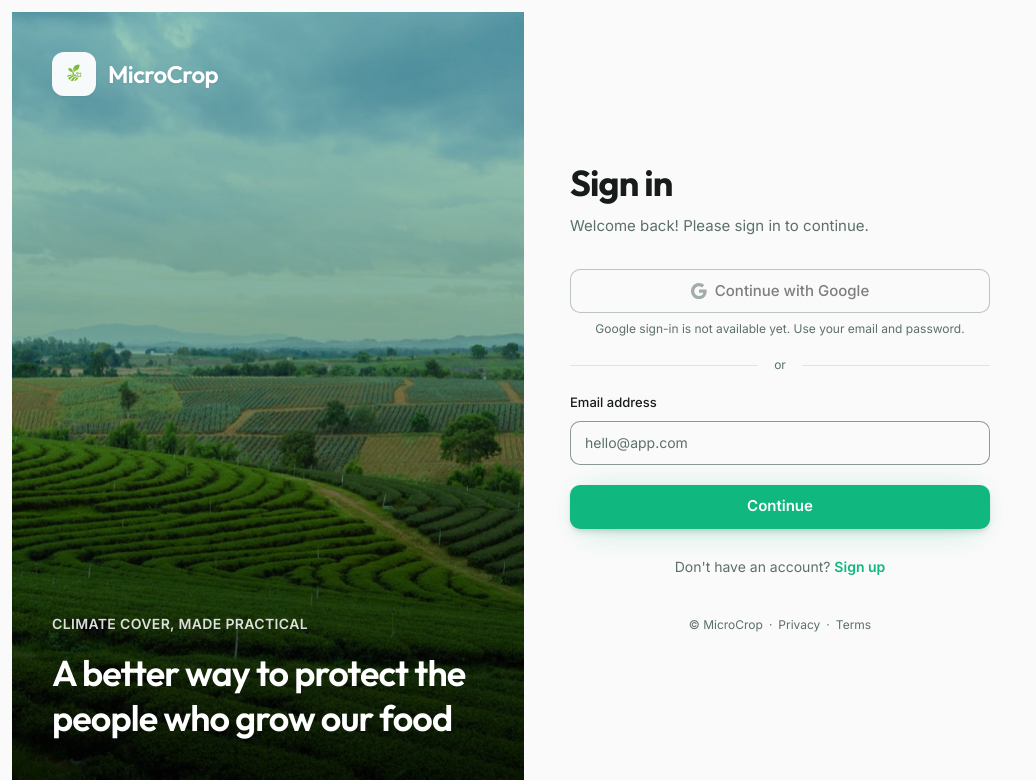
it: step one — email › advances on Enter in the field, not only on the button
Type "partner@acme.co" into the field labelled "Email address".
click(780, 442); type("partner@acme.co")  # box [570,420,990,464]
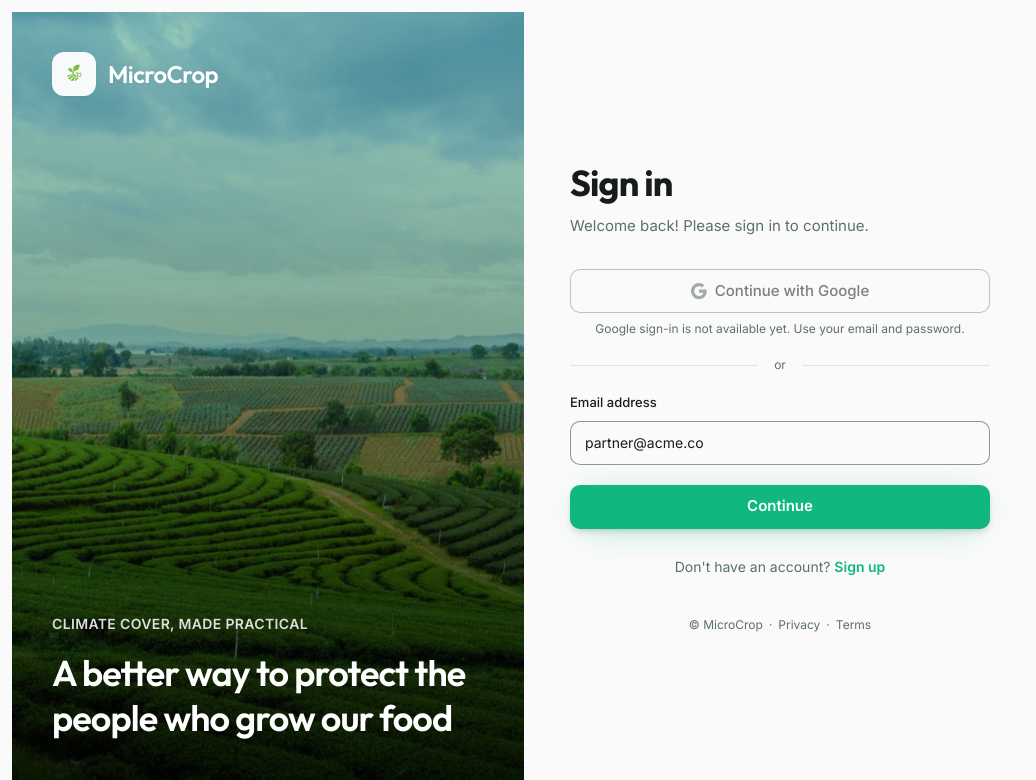
Submit the form named "email address", box [570,269,990,528]
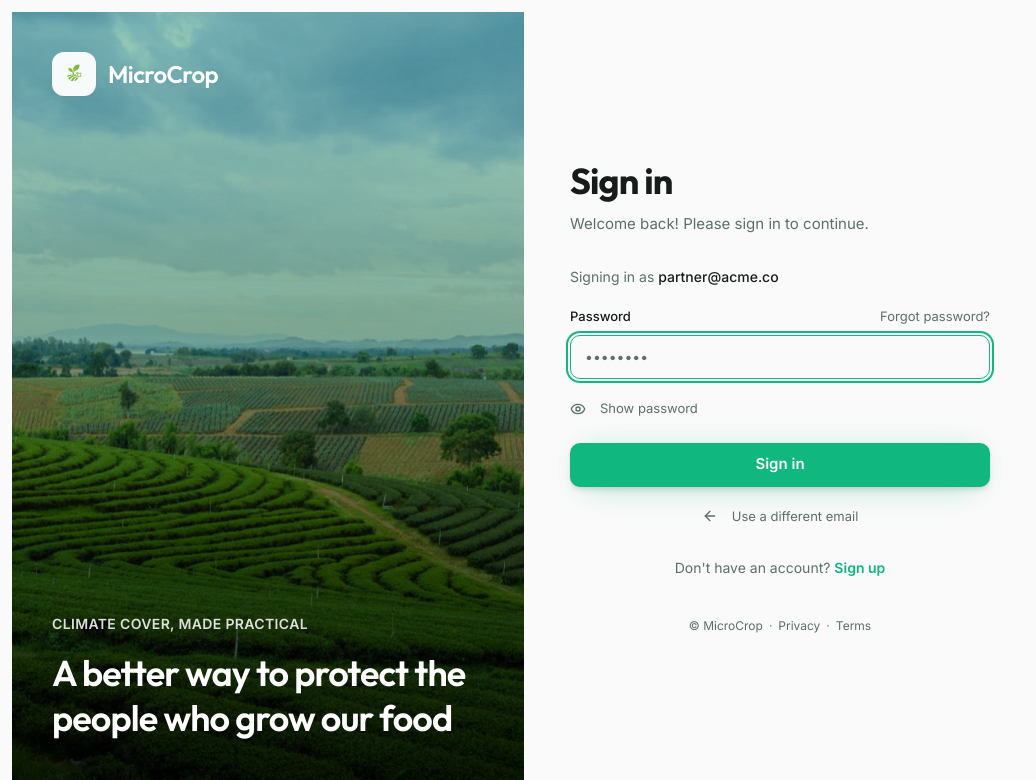
Result: the password field labelled "Password" is shown at [570,335,990,379]
